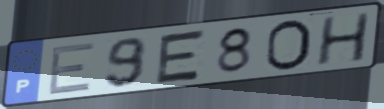8: (214, 26, 253, 76)
9: (102, 36, 149, 90)
E: (152, 27, 209, 86), (45, 40, 98, 97)
H: (314, 10, 372, 68)
O: (263, 18, 313, 74)
